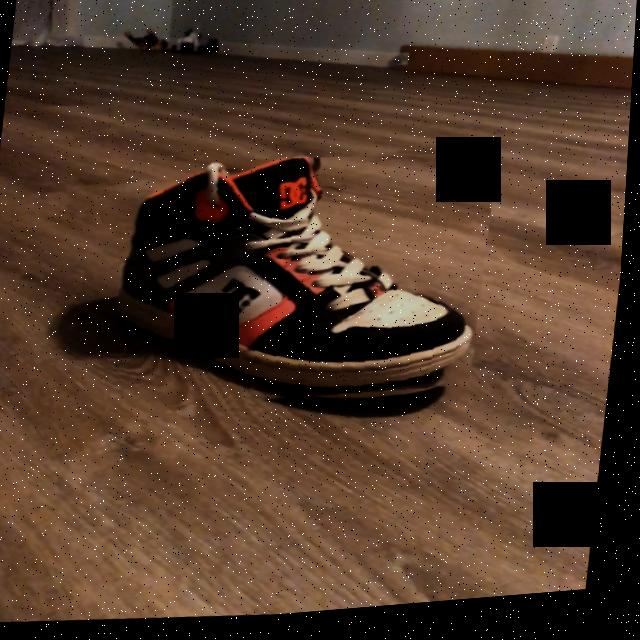shoe: (121, 163, 480, 403)
